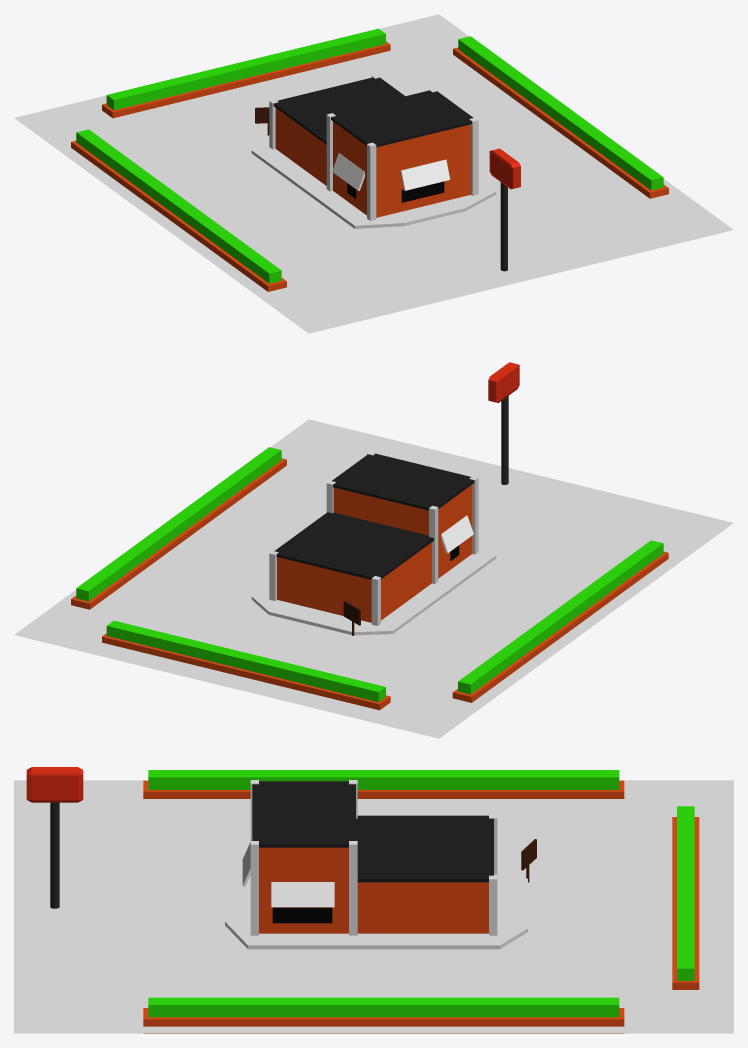
Rendered from DriveThruMenuV2.fbx.
3 views of the same model, one above another, from view 1: azimuth 30°, elevation 25°; view 2: azimuth 150°, elevation 25°; view 3: azimuth 270°, elevation 25° (orthographic). The views are drawn at different scales.
Parts seen in each view (by area): view 1: Ground, Building, Cube.014, Cube.011, Cube.018, Cube.015, Cube.008, Cube.012, Cube.013, Cube.017, Cube.016, Cube.007 (+6 smaller); view 2: Ground, Building, Cube.012, Cube.014, Cube.011, Cube.018, Cube.015, Cube.008, Cube.013, Cube.007, Cube.017, Cube.016 (+3 smaller); view 3: Ground, Building, Cube.015, Cube.012, Cube.018, Cube.008, Cube.011, Cube.016, Cube.017, Cube.014, Cube.007, Cube.013 (+5 smaller).
Boxes of the visible parts, x1,y1,x2,y2 form: Ground: [14, 14, 733, 333]; Building: [275, 108, 470, 217]; Cube.014: [106, 28, 385, 110]; Cube.011: [331, 90, 473, 147]; Cube.018: [76, 129, 281, 283]; Cube.015: [458, 36, 663, 190]; Cube.008: [251, 135, 496, 228]; Cube.012: [273, 77, 404, 144]; Cube.013: [102, 41, 390, 118]; Cube.017: [71, 140, 286, 291]; Cube.016: [453, 47, 668, 198]; Cube.007: [269, 74, 478, 220]; Ground: [14, 419, 733, 738]; Building: [277, 484, 472, 622]; Cube.012: [274, 512, 433, 579]; Cube.014: [106, 620, 385, 702]; Cube.011: [332, 453, 474, 510]; Cube.018: [458, 540, 663, 694]; Cube.015: [76, 447, 281, 601]; Cube.008: [251, 546, 496, 635]; Cube.013: [102, 633, 390, 710]; Cube.007: [269, 451, 478, 625]; Cube.017: [452, 551, 668, 702]; Cube.016: [71, 458, 286, 609]; Ground: [14, 780, 733, 1033]; Building: [259, 847, 488, 933]; Cube.015: [148, 997, 619, 1017]; Cube.012: [356, 815, 493, 882]; Cube.018: [148, 770, 619, 789]; Cube.008: [225, 861, 527, 949]; Cube.011: [252, 781, 355, 847]; Cube.016: [143, 1008, 624, 1033]; Cube.017: [143, 780, 624, 798]; Cube.014: [677, 806, 694, 980]; Cube.007: [250, 780, 497, 935]; Cube.013: [672, 817, 699, 989].
Bounding box in the file's own units: 140549 × 47123 × 168822.
